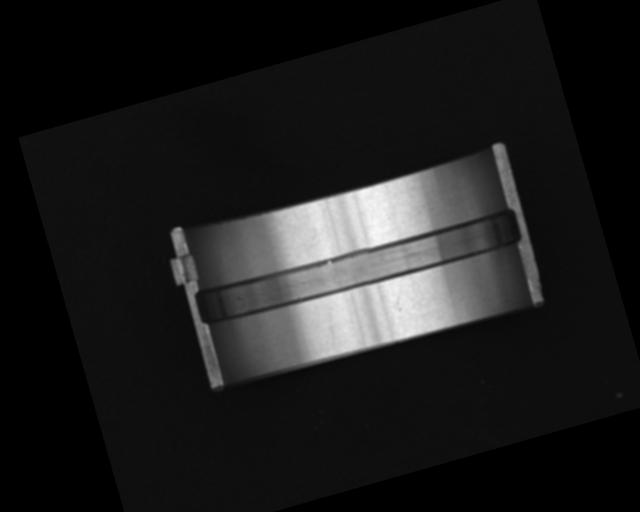gap: (194, 201, 525, 333)
nick: (324, 313, 340, 346)
